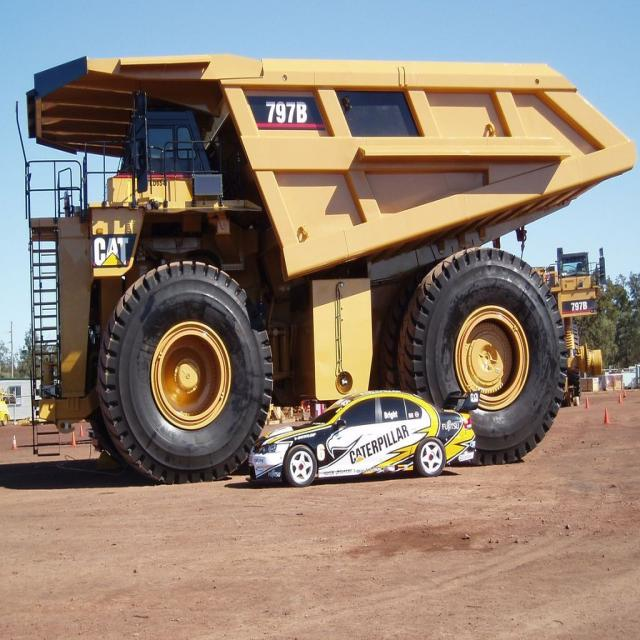dump_truck: (14, 33, 572, 480)
light_vehicle: (251, 386, 488, 496)
